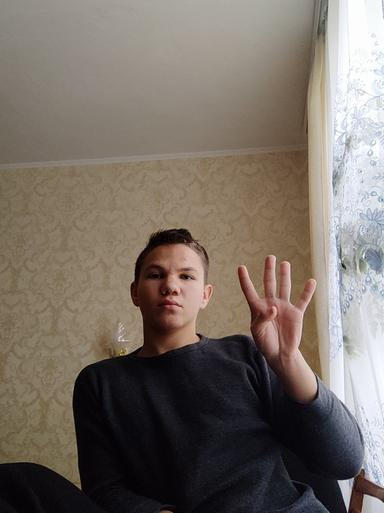four: (235, 252, 318, 364)
